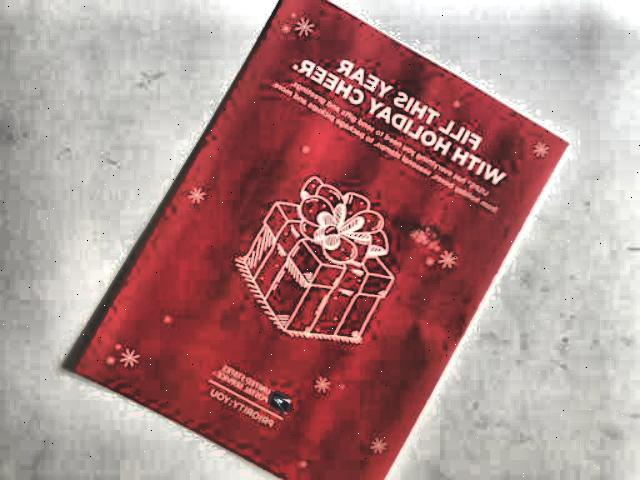Paper: (49, 6, 577, 478)
